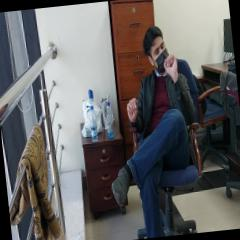not-gloved: (162, 54, 179, 80), (126, 96, 138, 120)
